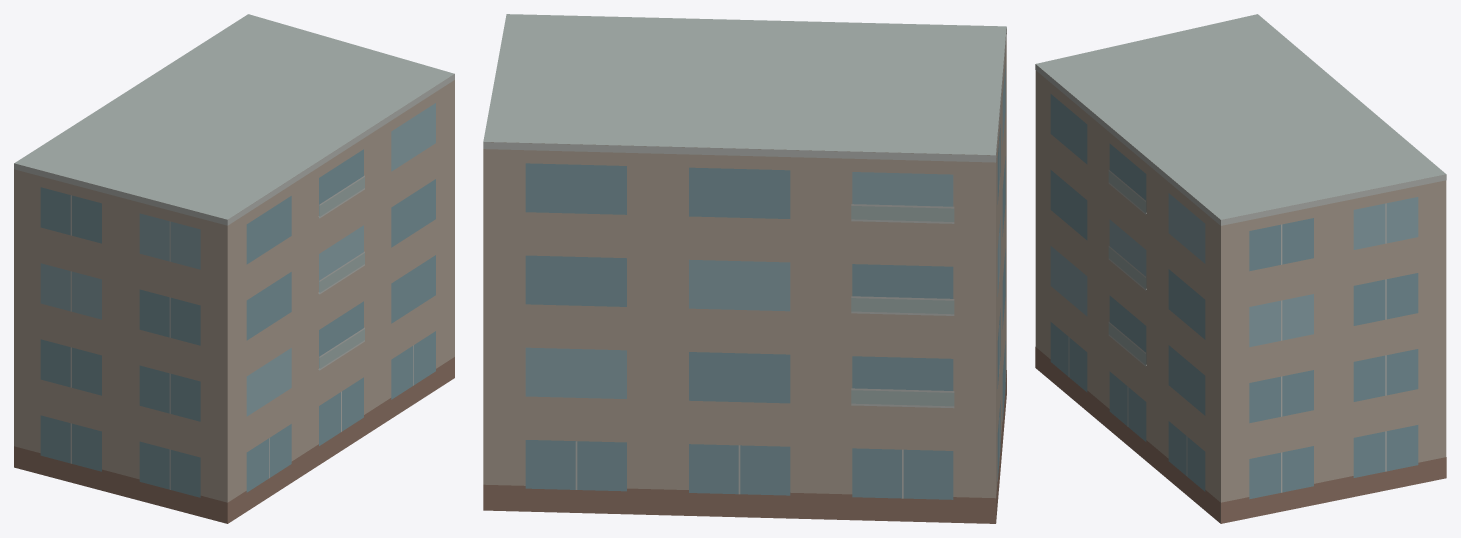
The model's file is survey-upis-32891446.glb.
The picture shows the model from 3 angles, left to right: view 1: azimuth 30°, elevation 25°; view 2: azimuth 150°, elevation 25°; view 3: azimuth 270°, elevation 25°; orthographic projection. The views are drawn at different scales.
Visible parts, largest first — view 1: survey-upis-32891446.tmp; view 2: survey-upis-32891446.tmp; view 3: survey-upis-32891446.tmp.
Boxes of the visible parts, box(x1,y1,x2,y2) form: survey-upis-32891446.tmp: box(14, 14, 454, 523); survey-upis-32891446.tmp: box(483, 14, 1006, 523); survey-upis-32891446.tmp: box(1035, 14, 1446, 523).
Bounding box in the file's own units: 18.03 × 12.4 × 15.21.
